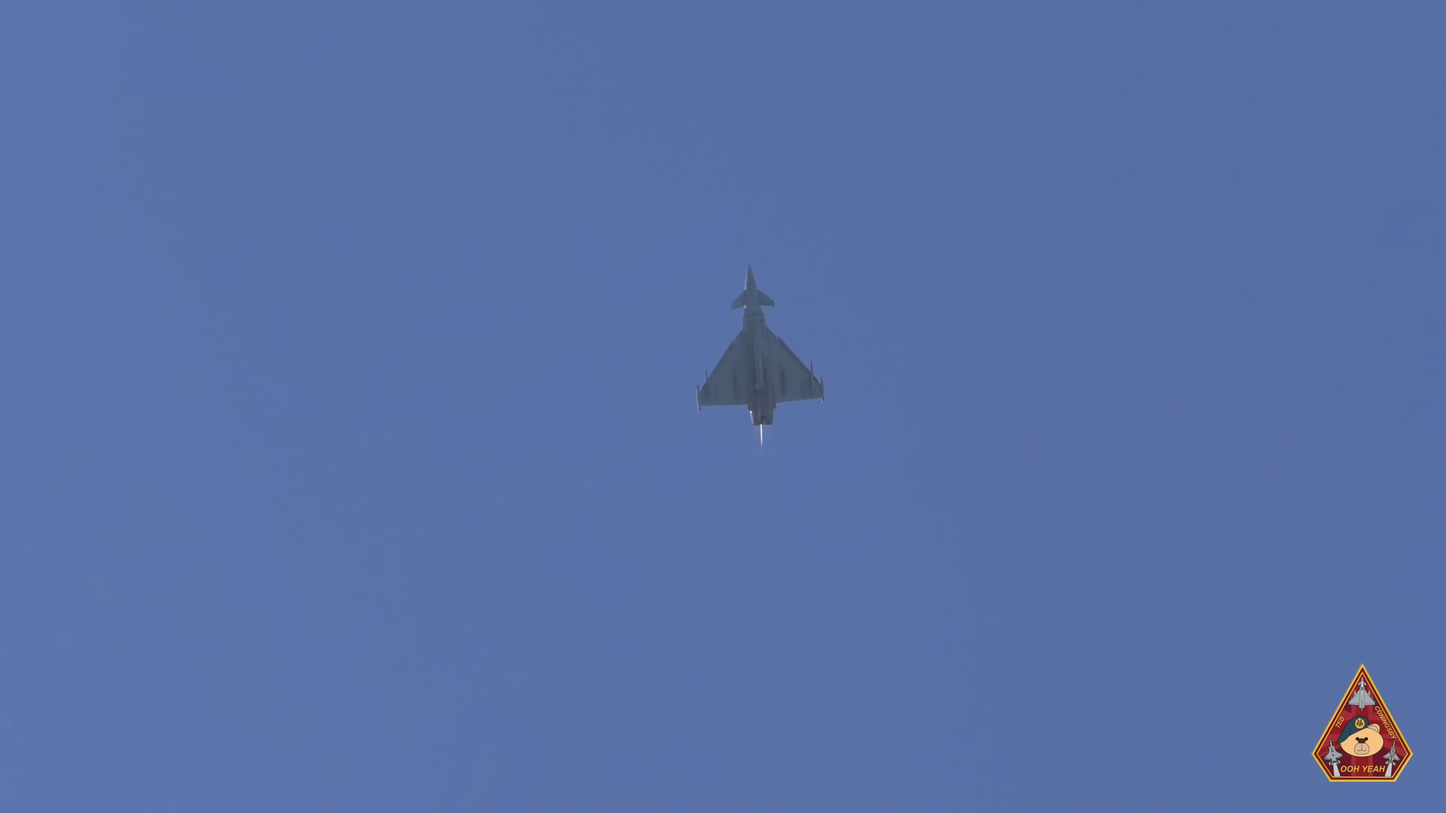airplane: (689, 264, 837, 449)
